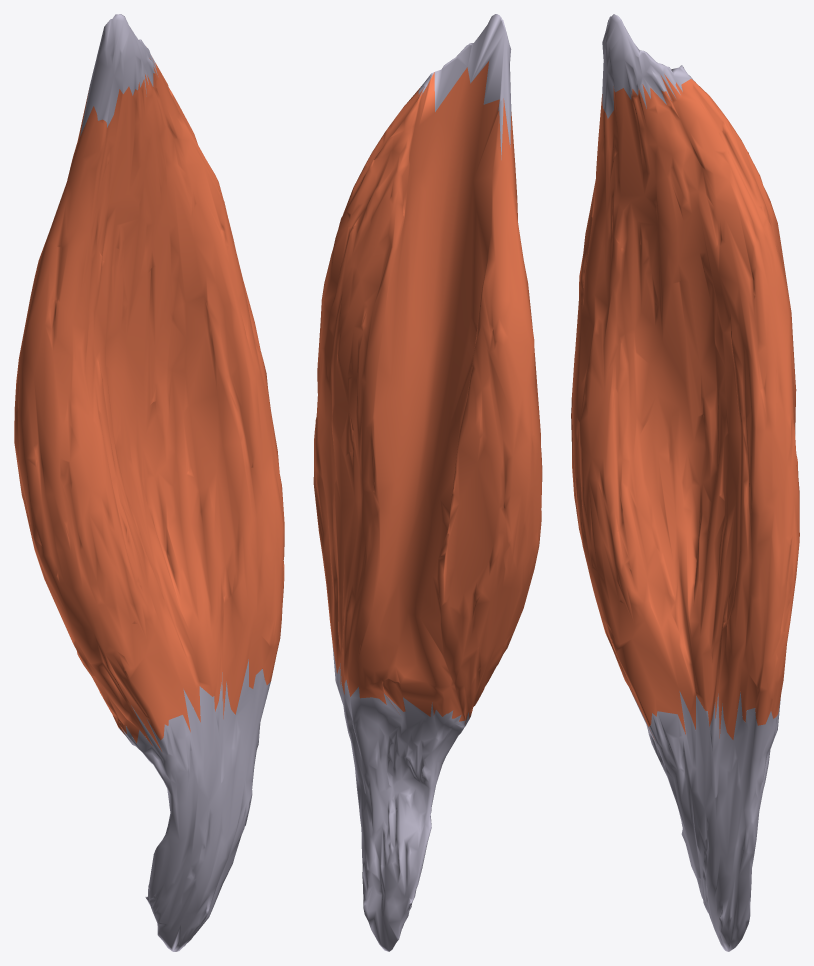
The model's file is Brachialis_left.glb.
3 views of the same model, side by side, from view 1: azimuth 30°, elevation 25°; view 2: azimuth 150°, elevation 25°; view 3: azimuth 330°, elevation 25° (orthographic). The views are drawn at different scales.
Parts seen in each view (by area): view 1: Brachialis_muscle.l_Generated_Mesh_From_X3D.1001; view 2: Brachialis_muscle.l_Generated_Mesh_From_X3D.1001; view 3: Brachialis_muscle.l_Generated_Mesh_From_X3D.1001.
Part boxes in pixels (x1,y1,x2,y2): Brachialis_muscle.l_Generated_Mesh_From_X3D.1001: [14, 14, 284, 951]; Brachialis_muscle.l_Generated_Mesh_From_X3D.1001: [313, 14, 542, 951]; Brachialis_muscle.l_Generated_Mesh_From_X3D.1001: [571, 14, 799, 951].
Bounding box in the file's own units: 0.061 × 0.2323 × 0.0276.
